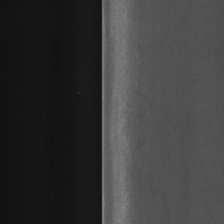silk_spot: (120, 30, 151, 188)
